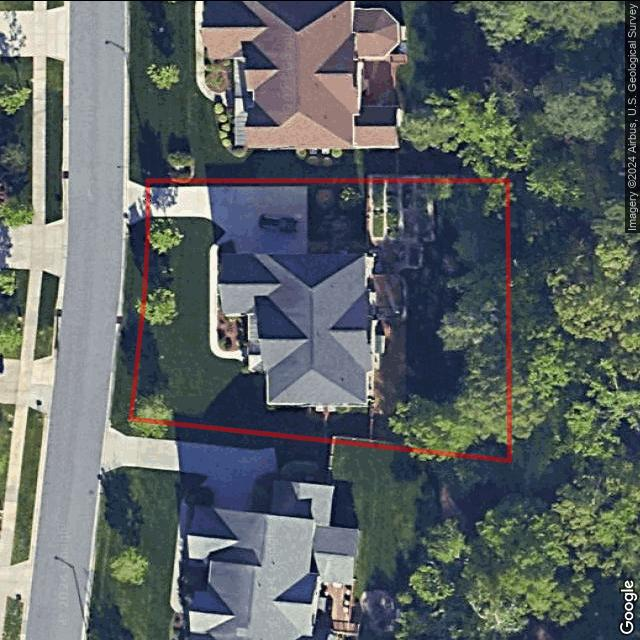Driveway: (147, 184, 310, 252)
Extra-Driveway: (127, 179, 148, 225)
Extra-Lawn: (111, 217, 149, 419)
House: (220, 253, 382, 406)
Lawn: (130, 179, 510, 461)
Other: (308, 178, 435, 414), (217, 281, 249, 351)
Sidewalk: (210, 231, 249, 360)
